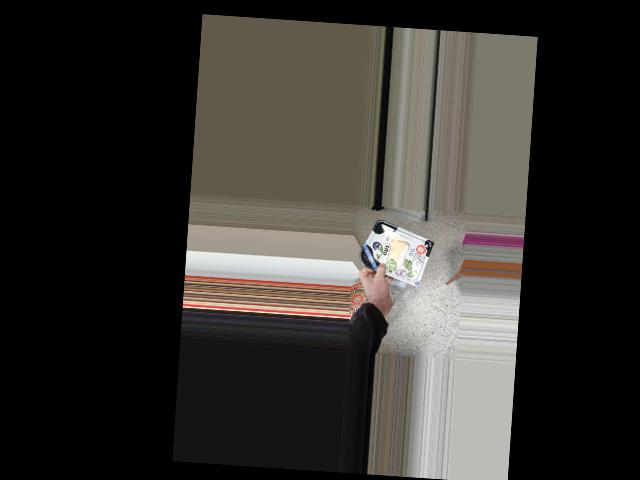cheese: (363, 225, 429, 276)
